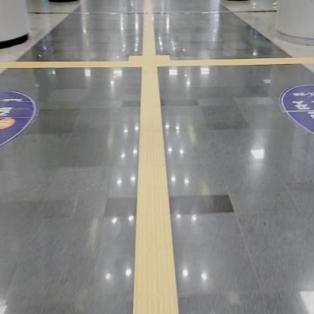Podoctatil: (132, 68, 178, 313), (120, 44, 178, 81), (0, 60, 128, 71), (170, 58, 314, 66), (142, 0, 158, 57)
